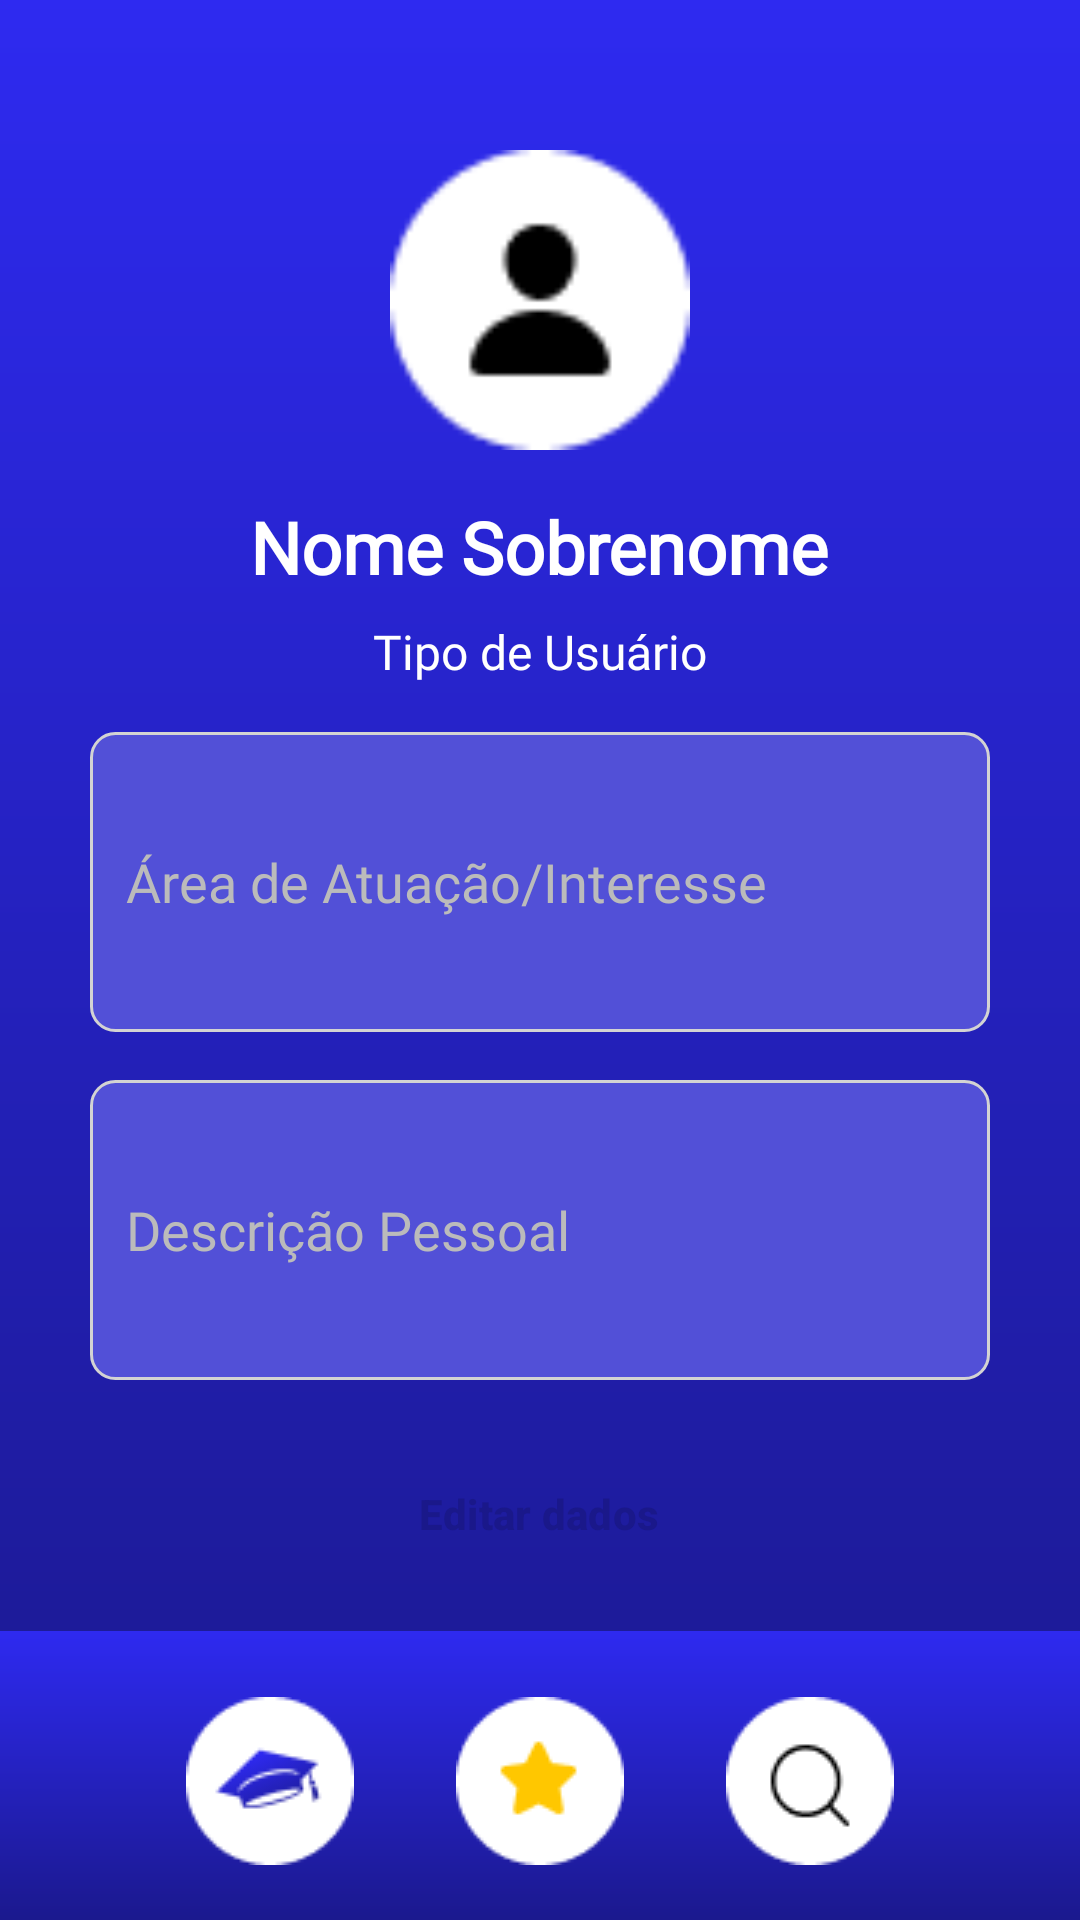

Point at icon controls on the screen. Image size 1080 x 1920, points as (x,y).
search: (810,1781)
star: (540,1781)
user: (540,300)
